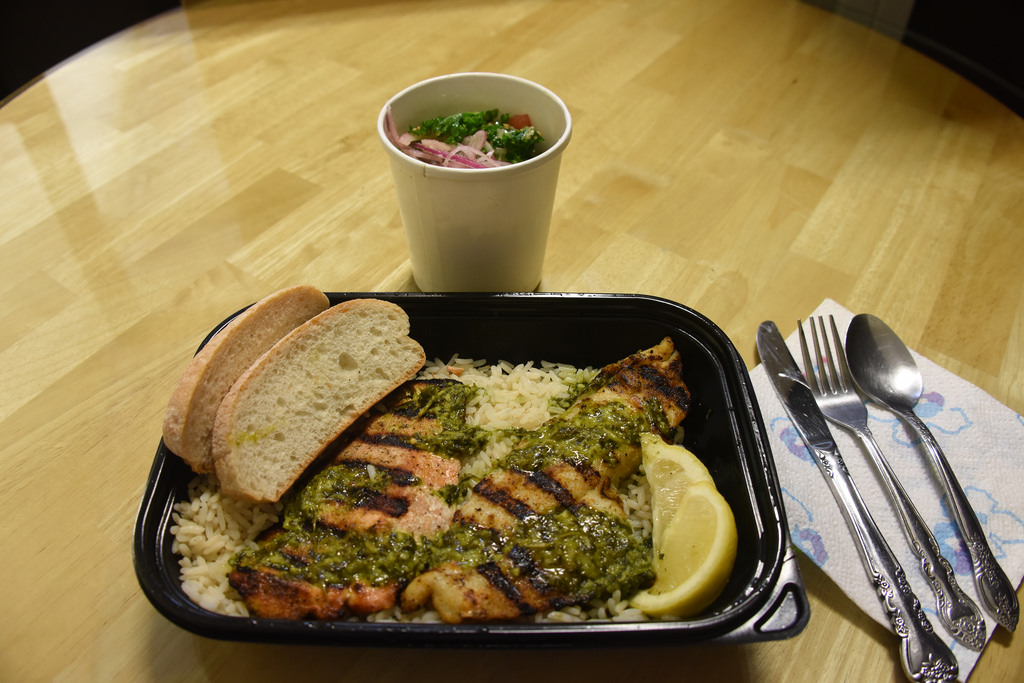plain rice: (478, 371, 545, 428)
slice of bread: (229, 310, 414, 407)
